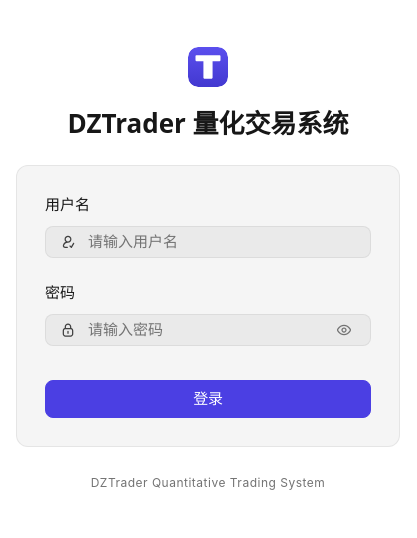
Test case: LoginView › 登录失败（invalid_credentials）映射中文且保留 last_username
Step 1. Type "alice" into the field with id "username" → (221, 242), box [86,230,356,254]
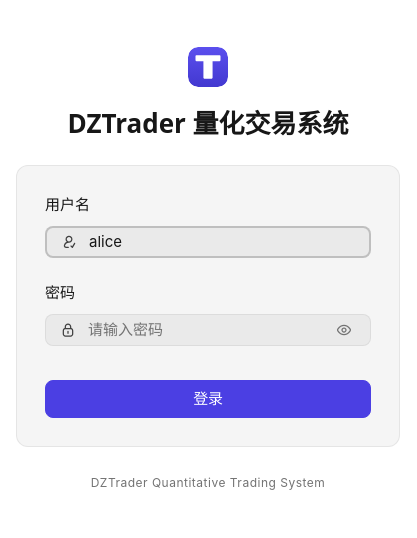
Step 2. Type "wrong" into the password field labelled "密码" → (204, 330), box [86,318,322,342]
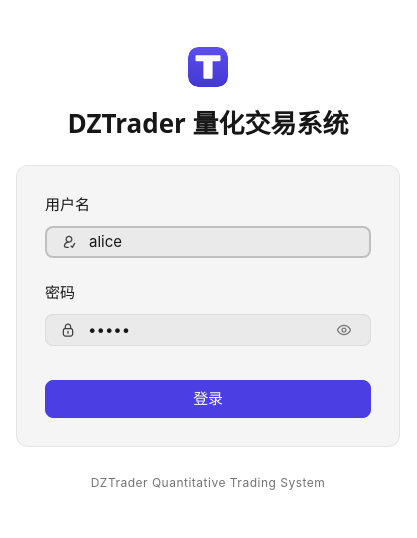
Step 3. Submit the form, box [45,194,371,418]
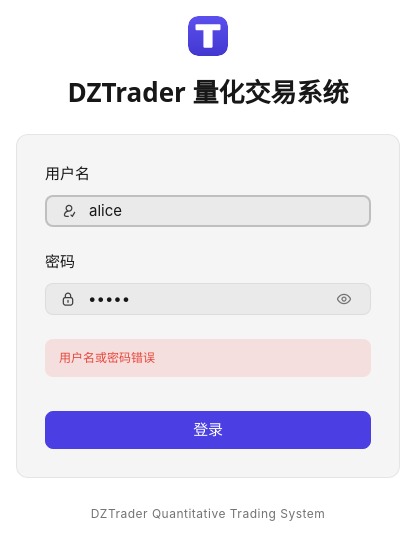
Expected: the text "用户名或密码错误" is shown, [45,338,371,376]
